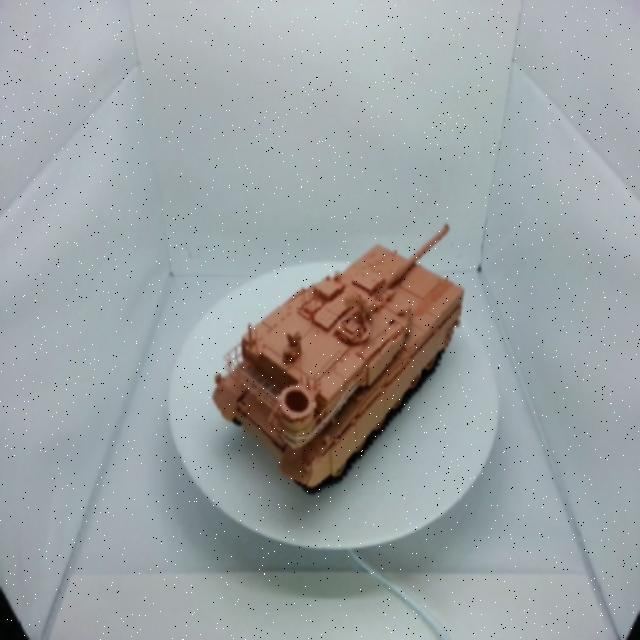korea tank: (200, 199, 497, 505)
